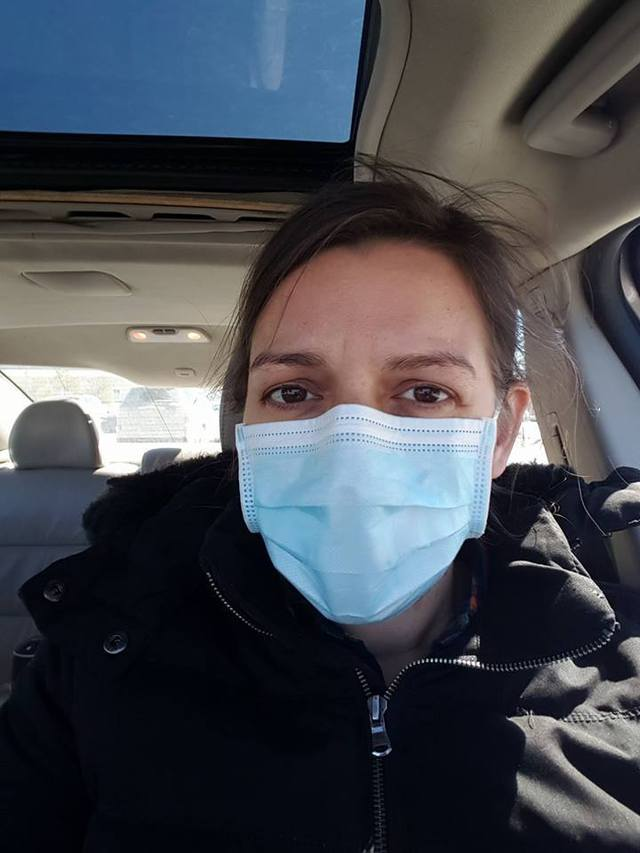mask: (238, 420, 487, 600)
